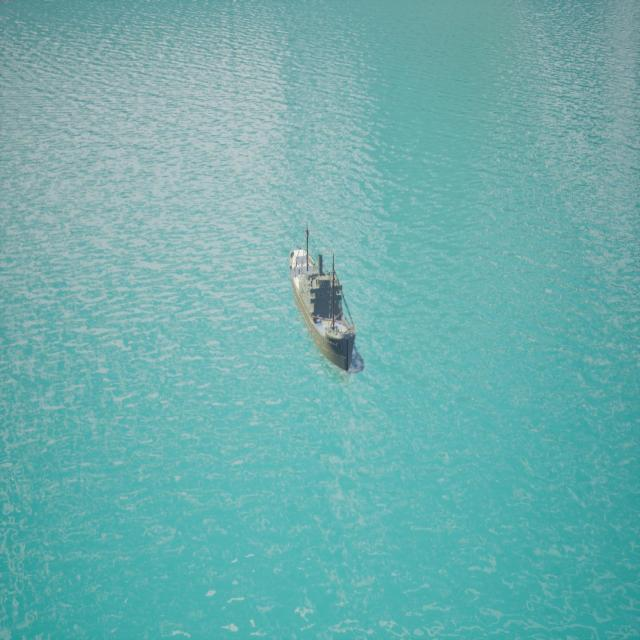fishing ship: (289, 228, 358, 376)
